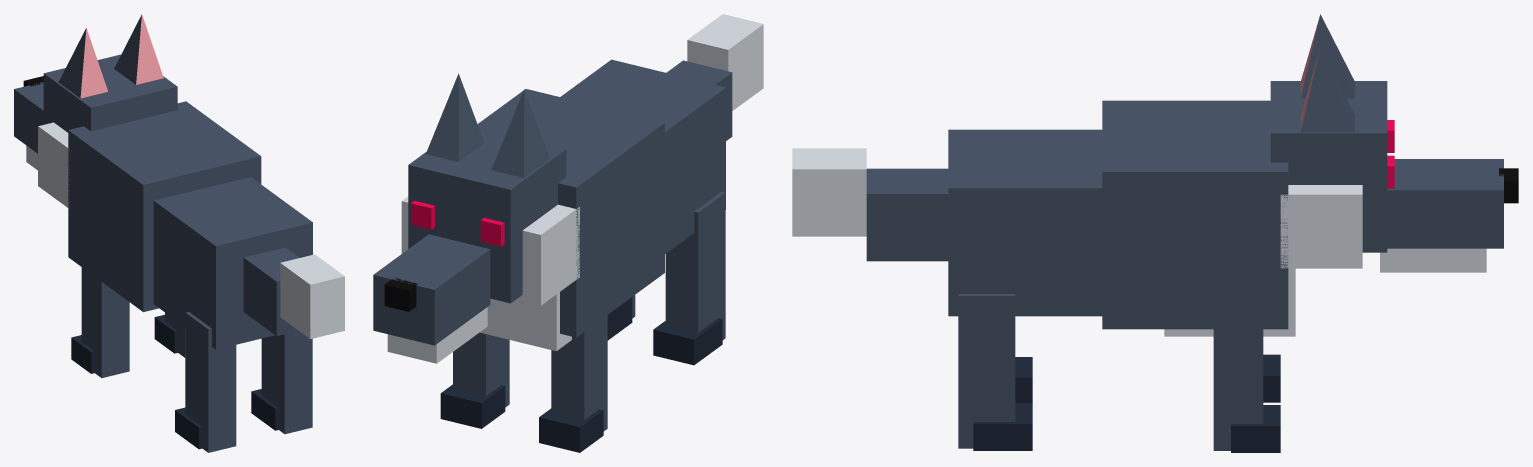
Rendered from wolf.obj.
The picture shows the model from 3 angles, left to right: view 1: azimuth 30°, elevation 25°; view 2: azimuth 150°, elevation 25°; view 3: azimuth 270°, elevation 25°; orthographic projection. The views are drawn at different scales.
Parts seen in each view (by area): view 1: Wolf; view 2: Wolf; view 3: Wolf.
Part boxes in pixels (bbox=[...]): Wolf: bbox=[14, 14, 344, 452]; Wolf: bbox=[373, 14, 763, 452]; Wolf: bbox=[792, 14, 1518, 452].
Size of the model in its own units: 0.68 by 1.72 by 2.93.
Materials: 1 (1 with a texture image).
